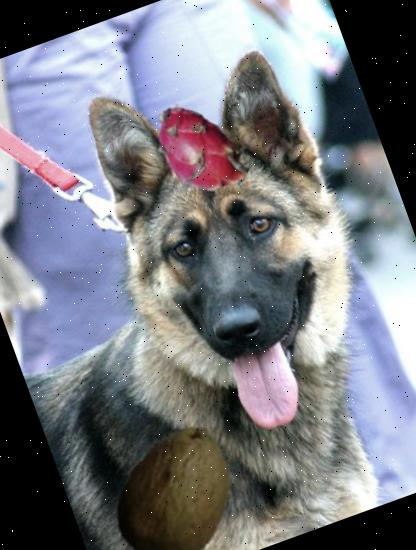Papaya: (84, 401, 269, 550)
Pitahaya: (132, 83, 267, 218)
